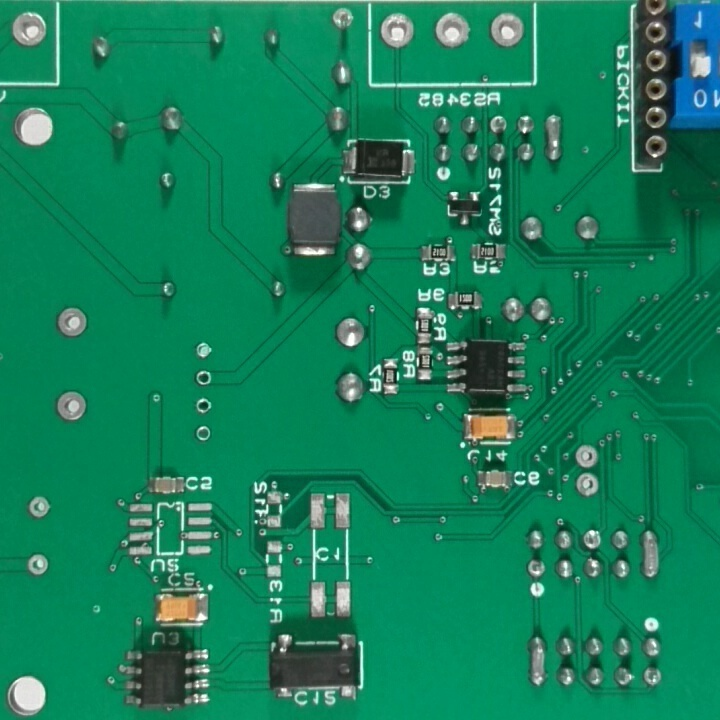F: (376, 8, 420, 52), (7, 8, 50, 52), (432, 9, 473, 52), (487, 9, 528, 50), (53, 303, 91, 346), (52, 386, 90, 429), (571, 470, 603, 501), (571, 440, 601, 470), (24, 492, 53, 523), (329, 6, 357, 35), (522, 555, 550, 583), (580, 523, 604, 555), (640, 662, 664, 690), (24, 553, 50, 578), (484, 113, 510, 138), (191, 395, 214, 418), (192, 422, 212, 447), (193, 341, 215, 363), (193, 367, 214, 389)
P: (522, 632, 548, 694), (638, 525, 661, 586), (544, 109, 565, 172)
